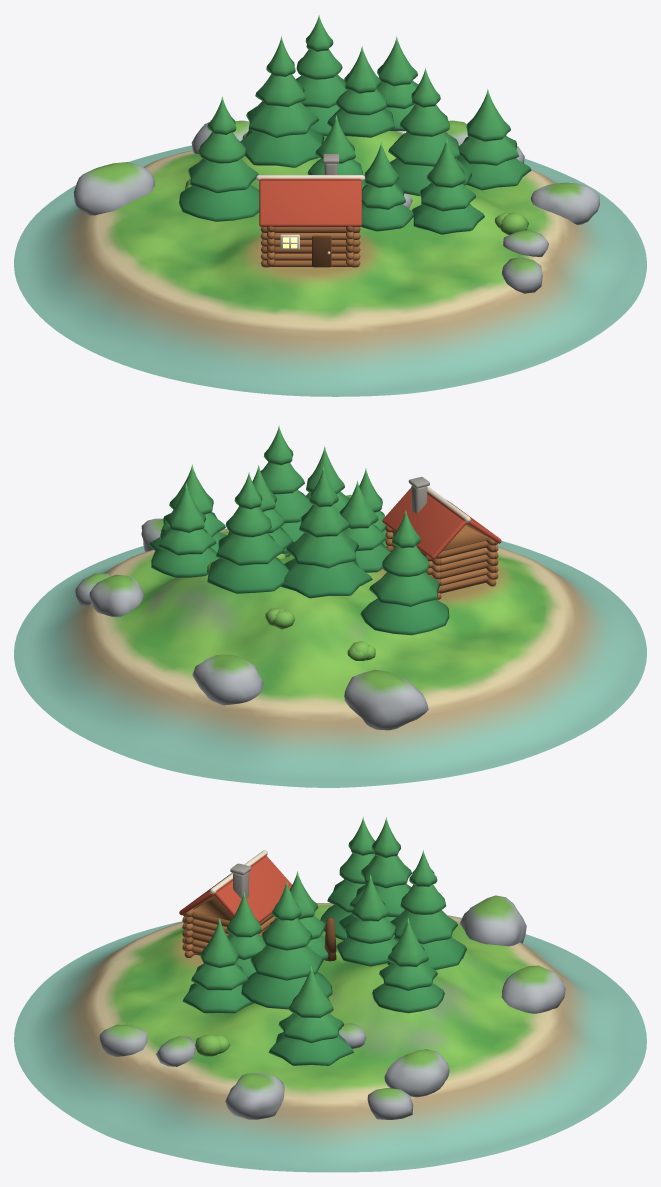
File: island_pine.glb
3 views of the same model, one above another, from view 1: azimuth 30°, elevation 25°; view 2: azimuth 150°, elevation 25°; view 3: azimuth 270°, elevation 25° (orthographic).
Visible parts, largest first — view 1: island_pine; view 2: island_pine; view 3: island_pine.
Part boxes in pixels (x1,y1,x2,y2): island_pine: (14, 15, 646, 396); island_pine: (14, 425, 646, 787); island_pine: (14, 817, 646, 1172).
Bounding box in the file's own units: 20.04 × 7.5 × 20.04.
